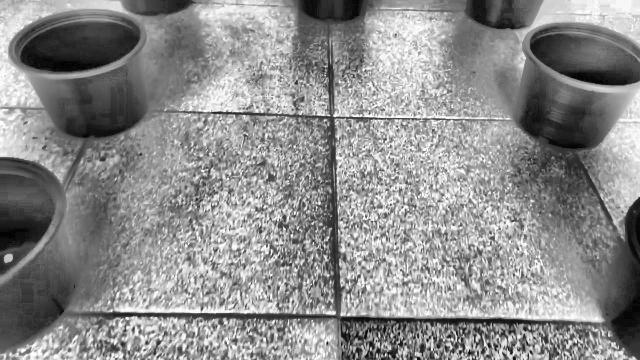pot: (6, 8, 150, 140), (512, 22, 640, 150)
